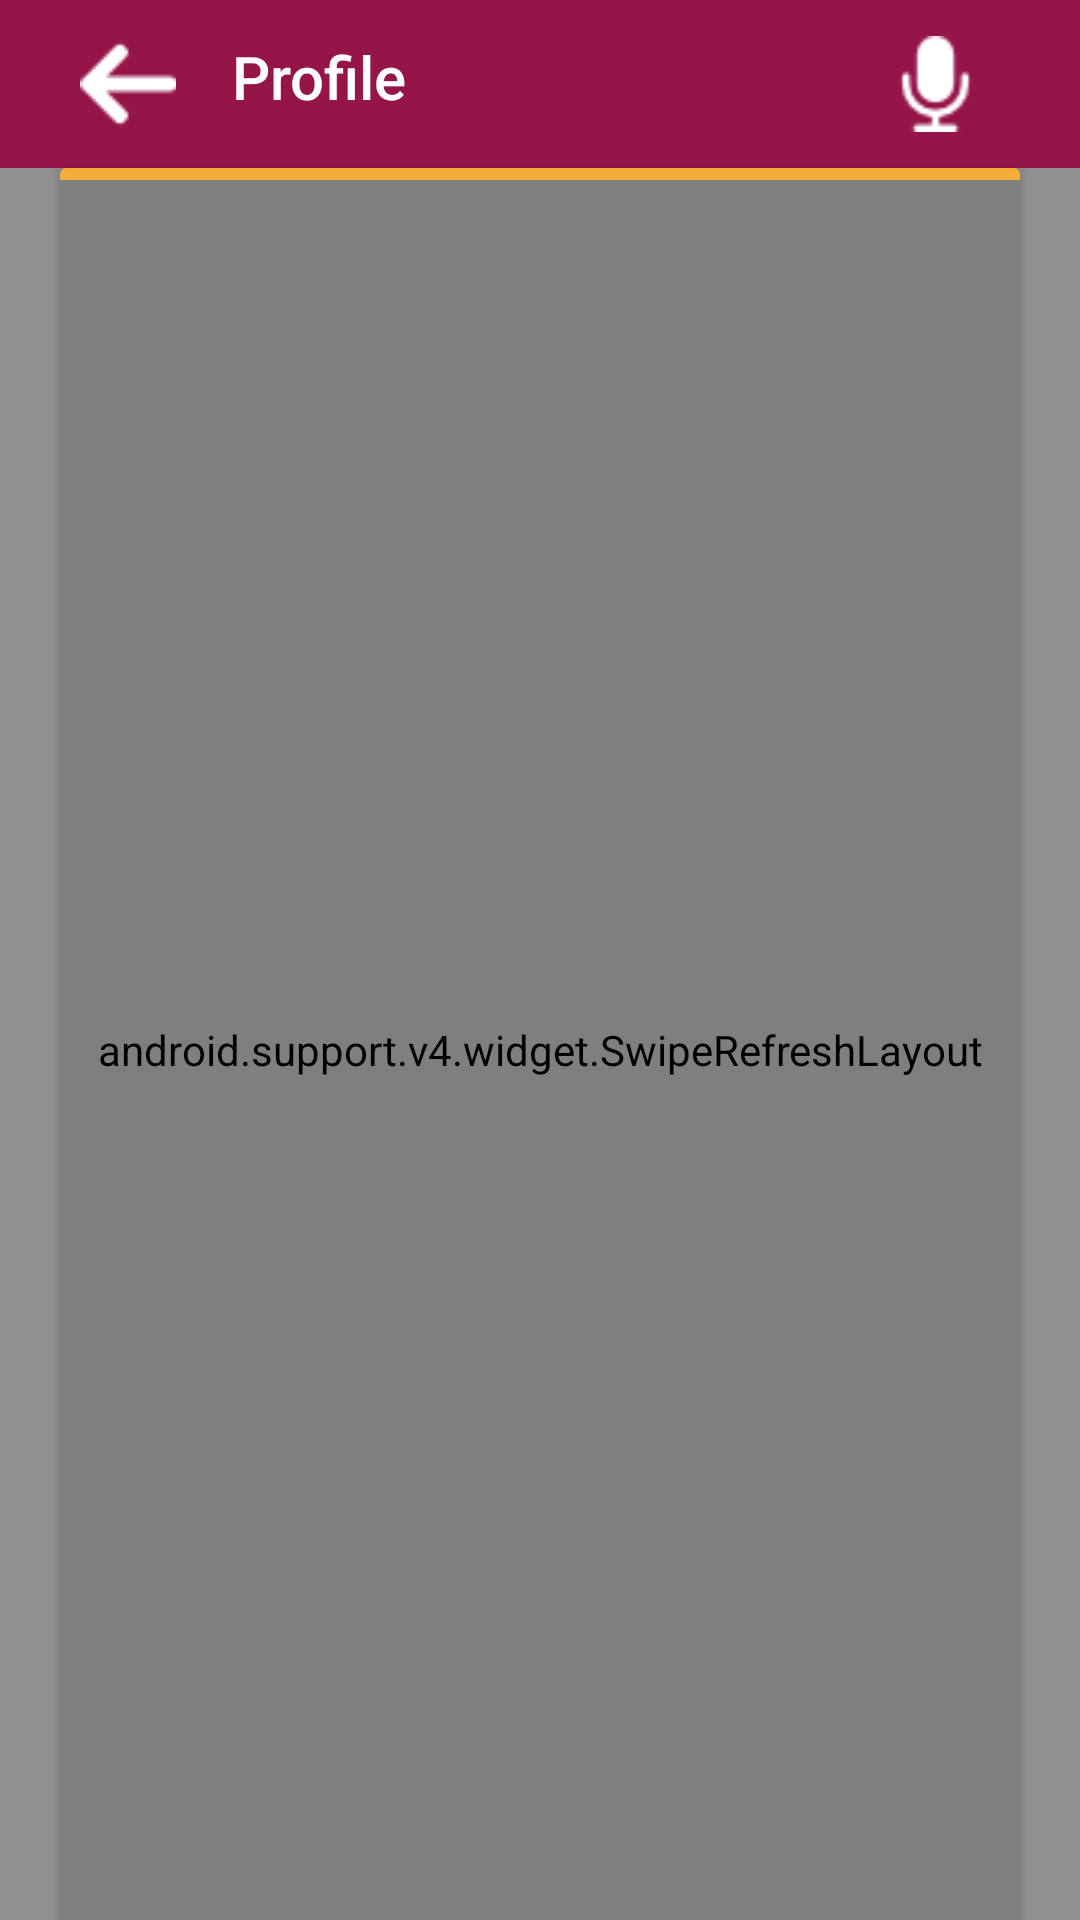

Where to tap for icons on this 1080px x 1920px app screen, as (x=x, y=y):
left: (x=128, y=84)
